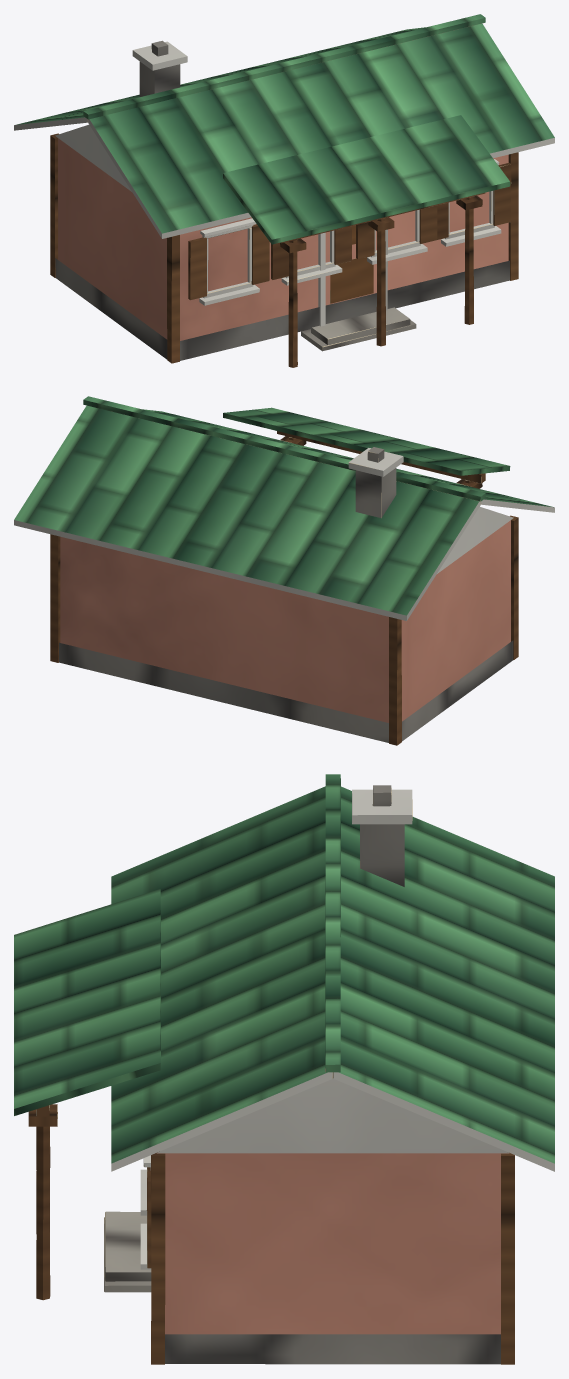
The model's file is Env_House_Farmhouse_C_LOD1.fbx.
The picture shows the model from 3 angles, top to bottom: view 1: azimuth 30°, elevation 25°; view 2: azimuth 150°, elevation 25°; view 3: azimuth 270°, elevation 25°; orthographic projection. The views are drawn at different scales.
Visible parts, largest first — view 1: Env_House_Farmhouse_C_LOD1; view 2: Env_House_Farmhouse_C_LOD1; view 3: Env_House_Farmhouse_C_LOD1.
Part boxes in pixels (x1,y1,x2,y2): Env_House_Farmhouse_C_LOD1: [14, 14, 554, 367]; Env_House_Farmhouse_C_LOD1: [14, 396, 554, 745]; Env_House_Farmhouse_C_LOD1: [14, 774, 554, 1364].
Size of the model in its own units: 699 by 550 by 431.
